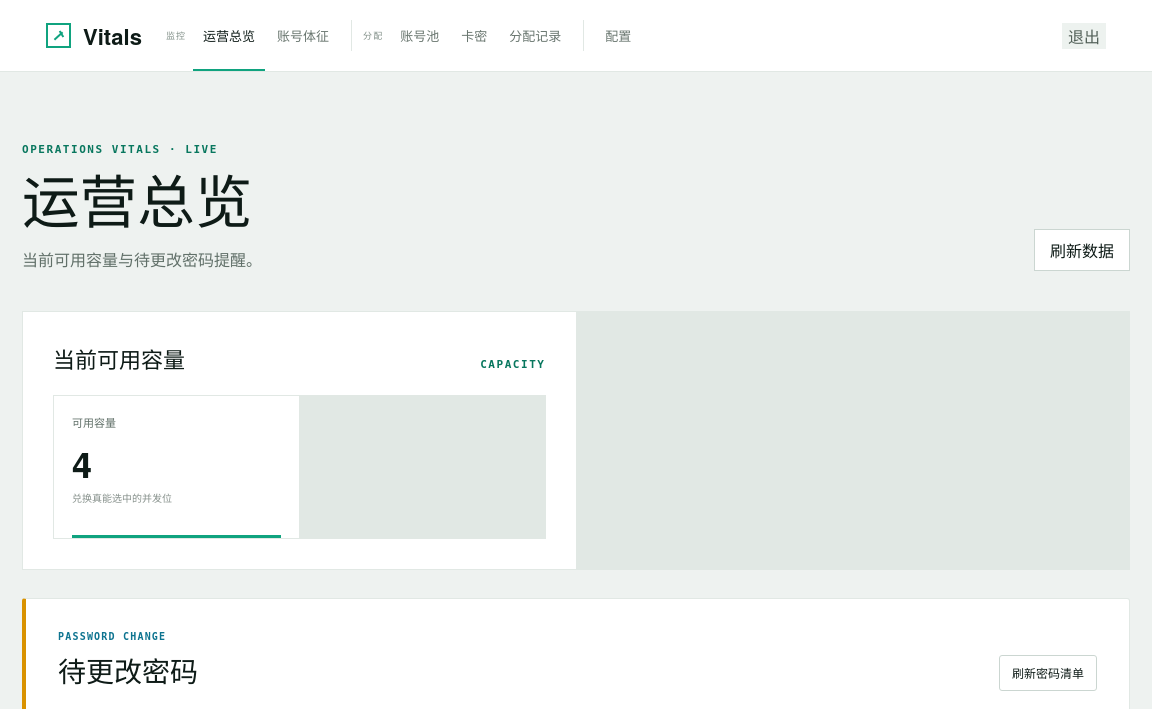
Test: Unified dashboard › isolates password API failure from capacity and refreshes both from the overview button
Expected: the text "4" is shown, [72, 437, 92, 489]
Click the button with class "overview-refresh". click: click(1082, 250)
box: [1034, 229, 1130, 271]
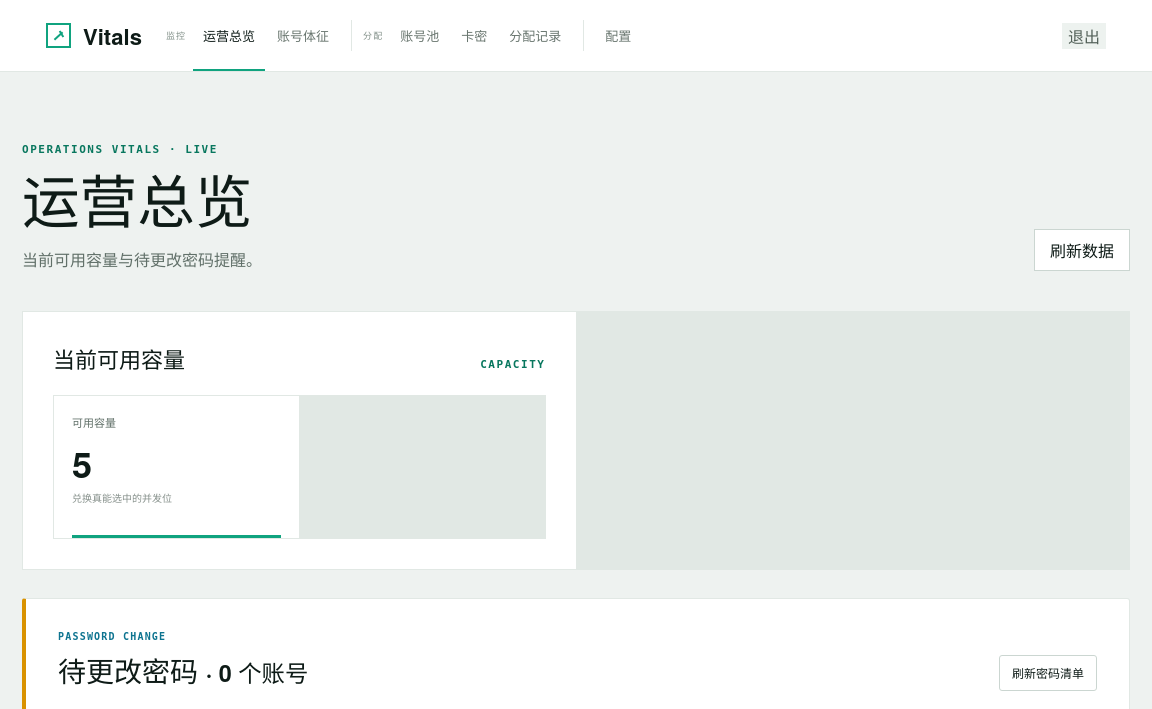
Now the text "5" is shown, box [72, 437, 92, 489]
